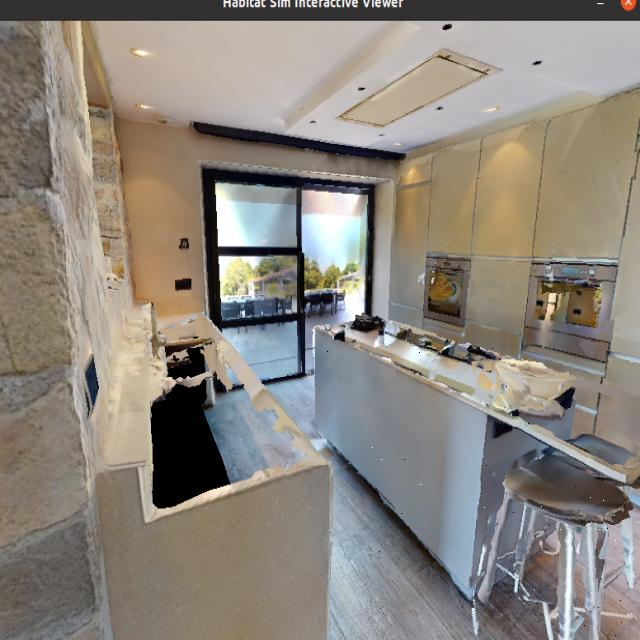chair: (498, 446, 635, 637)
table: (323, 305, 556, 556)
